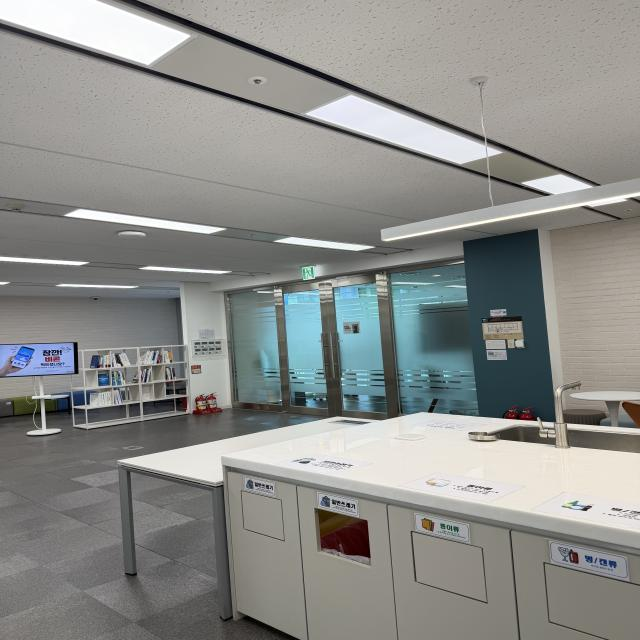front_door: (226, 259, 478, 420)
